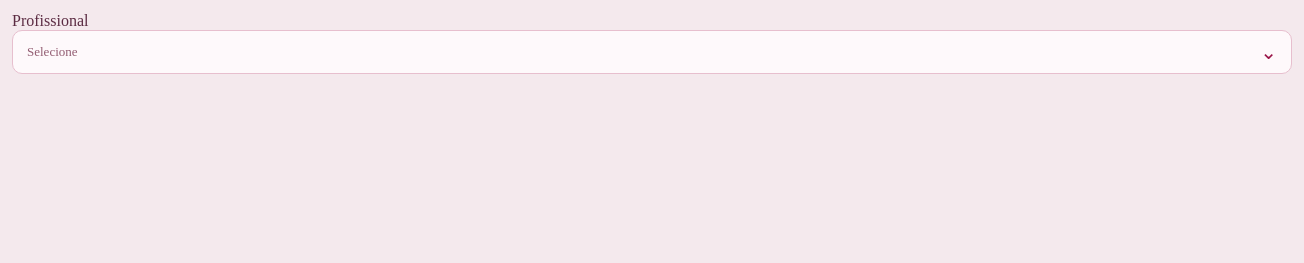
custom select keeps real change events, canonical form values and accessible label
Later steps or results of the test are not shown.
Click the dropdown labelled "Selecione ⌄".
click(52, 51)  # box [12,30,1292,74]
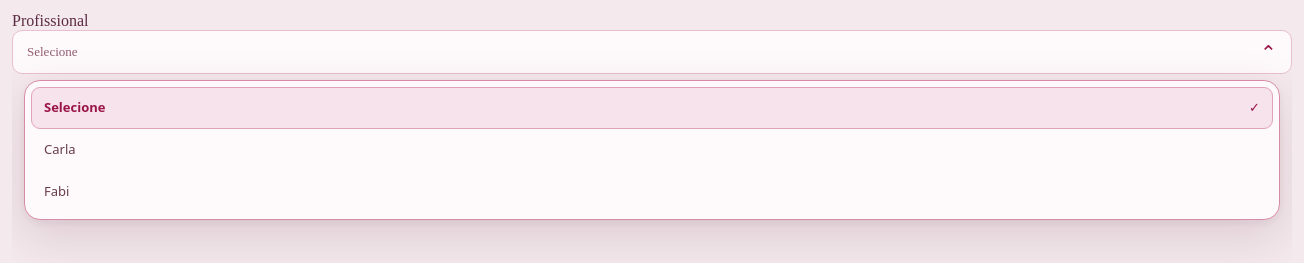
Now the option "Fabi" is shown, box [44,182,69,200]
